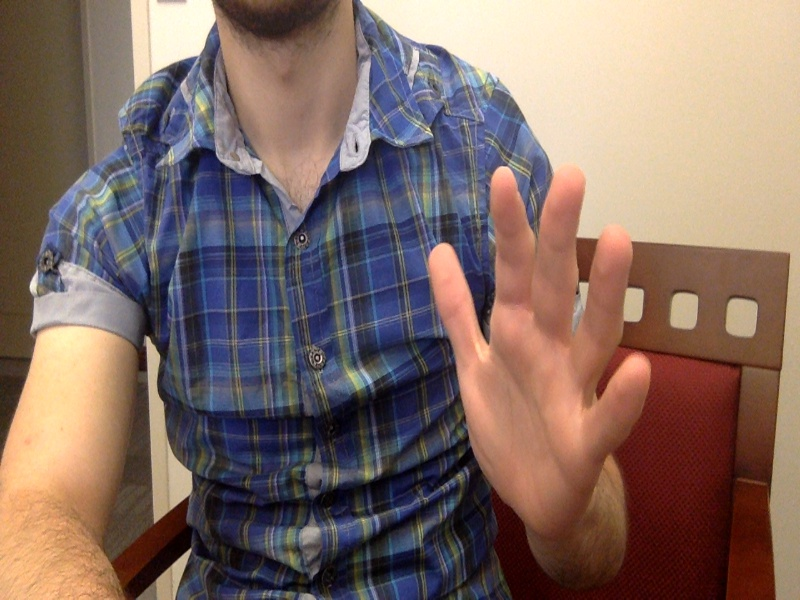5-hand: (429, 163, 651, 521)
